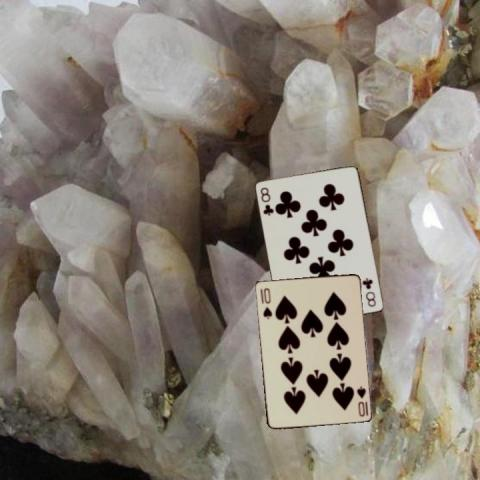10s: (353, 383, 367, 418), (260, 285, 273, 319)
8c: (257, 185, 276, 217), (361, 274, 377, 308)
